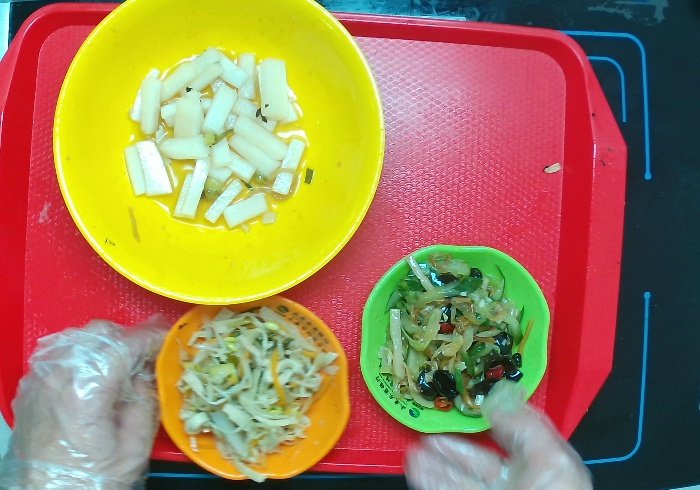YKMZ-Huang_Se_Tang_Wan: (51, 1, 387, 306)
YKMZ-Ju_Se_Ao_Bian_Wan: (153, 294, 353, 482)
YKMZ-Lv_Se_Ao_Bian_Wan: (358, 243, 552, 435)
